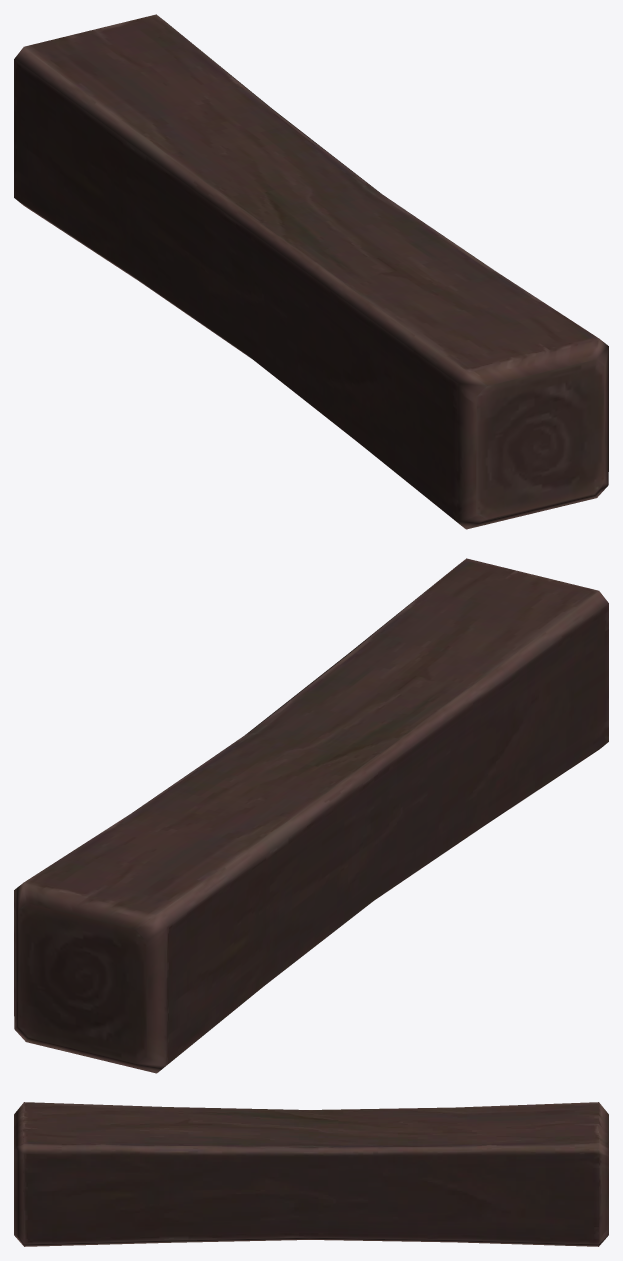
3 views of the same model, one above another, from view 1: azimuth 30°, elevation 25°; view 2: azimuth 150°, elevation 25°; view 3: azimuth 270°, elevation 25° (orthographic). The views are drawn at different scales.
Size of the model in its own units: 0.9917 by 0.9907 by 5.17.
1 material, 1 textured.
